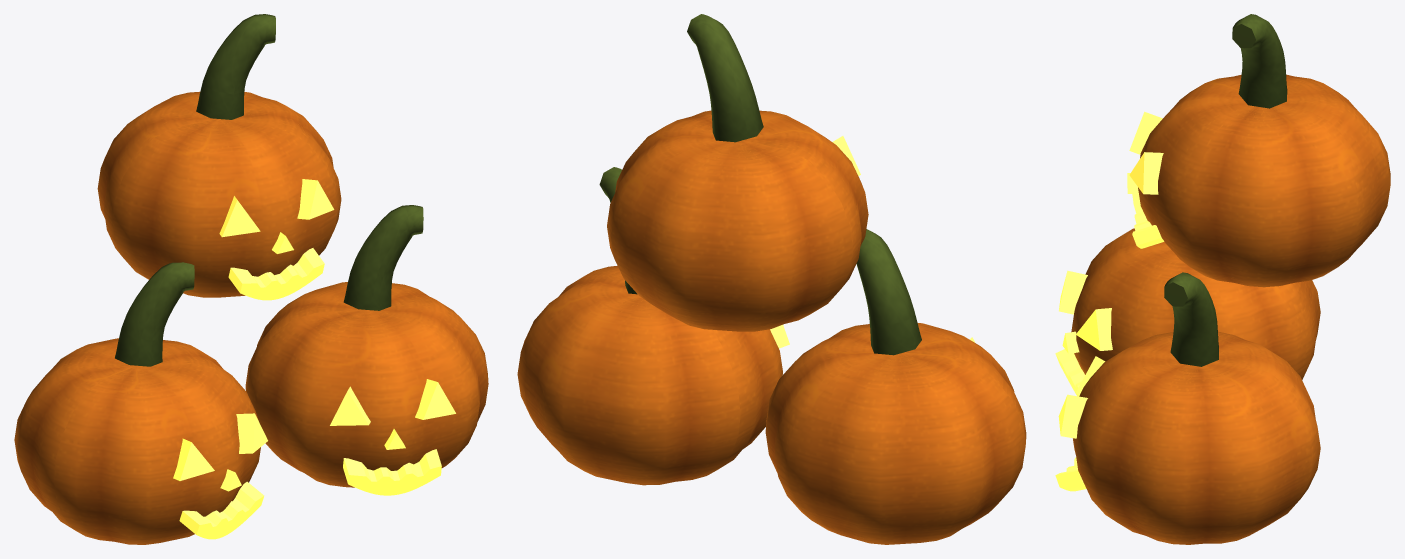
3 renders of one model, left to right at view 1: azimuth 30°, elevation 25°; view 2: azimuth 150°, elevation 25°; view 3: azimuth 270°, elevation 25°, orthographic. The views are drawn at different scales.
Parts seen in each view (by area): view 1: Body; view 2: Body; view 3: Body.
Part boxes in pixels (<box>): Body: <box>14,14,488,544</box>; Body: <box>517,14,1026,544</box>; Body: <box>1055,14,1390,544</box>.
Bounding box in the file's own units: 0.613 × 0.5968 × 0.3935.
3 materials, 2 textured.
